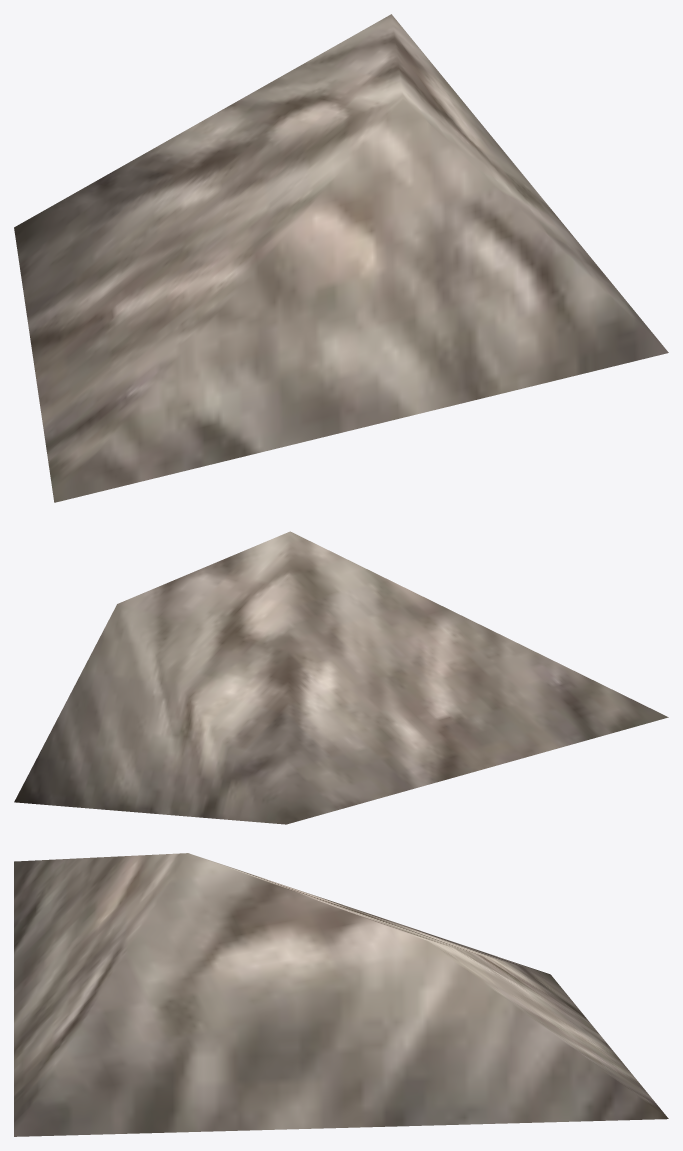
The model's file is rock-1.glb.
The picture shows the model from 3 angles, top to bottom: view 1: azimuth 30°, elevation 25°; view 2: azimuth 150°, elevation 25°; view 3: azimuth 270°, elevation 25°; orthographic projection. The views are drawn at different scales.
Parts seen in each view (by area): view 1: rock-1_Geoset0; view 2: rock-1_Geoset0; view 3: rock-1_Geoset0.
Part boxes in pixels (bbox=[...]): rock-1_Geoset0: bbox=[14, 14, 668, 502]; rock-1_Geoset0: bbox=[14, 531, 668, 824]; rock-1_Geoset0: bbox=[14, 853, 668, 1136].
Bounding box in the file's own units: 0.4211 × 0.1478 × 0.4233.
1 material, 1 textured.
